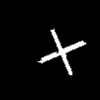single_crochet: (39, 30, 85, 74)
